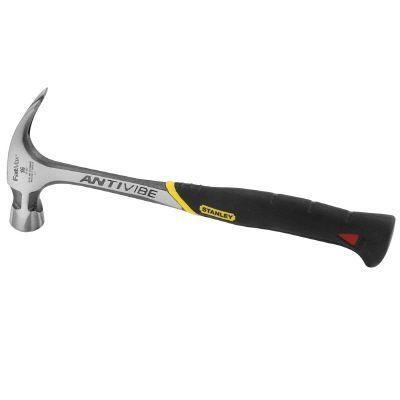hammer: (5, 85, 395, 269)
